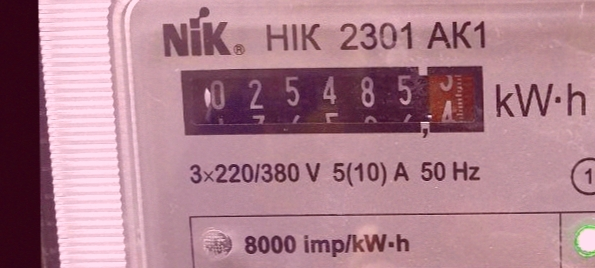0: (207, 78, 228, 113)
2: (246, 78, 266, 113)
4: (319, 74, 340, 108), (438, 99, 458, 127)
5: (394, 73, 415, 111), (282, 74, 302, 110)
8: (358, 74, 378, 112)
screen: (172, 59, 494, 149)
